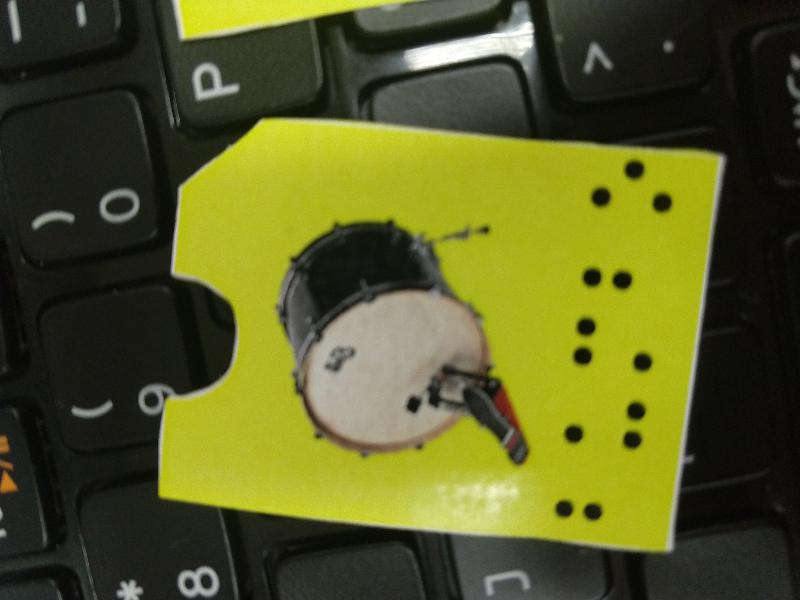bumbo: (154, 112, 728, 558)
